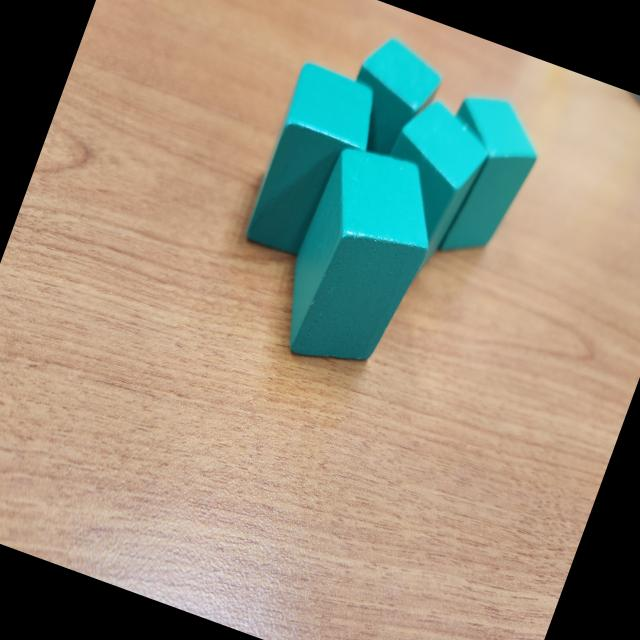green: (262, 135, 454, 387), (237, 58, 394, 272), (349, 90, 500, 296), (410, 87, 554, 270), (334, 31, 450, 168)
